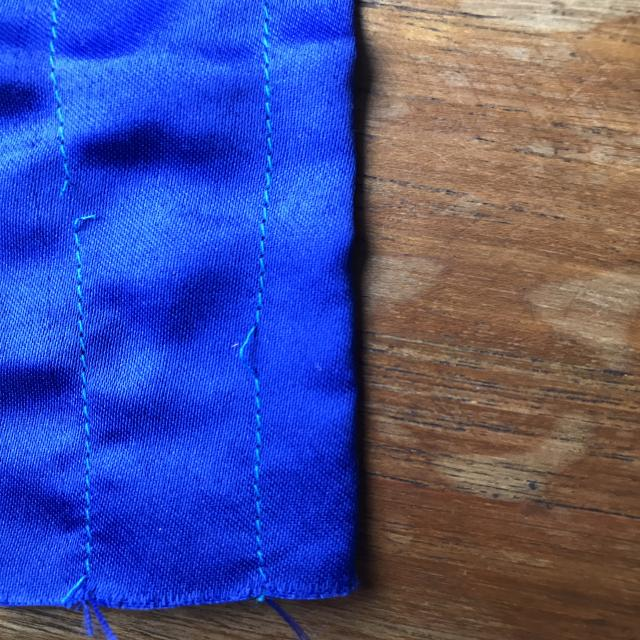broken: (35, 167, 128, 258)
good: (244, 68, 298, 207), (69, 314, 100, 457)
skip: (228, 300, 296, 393)
